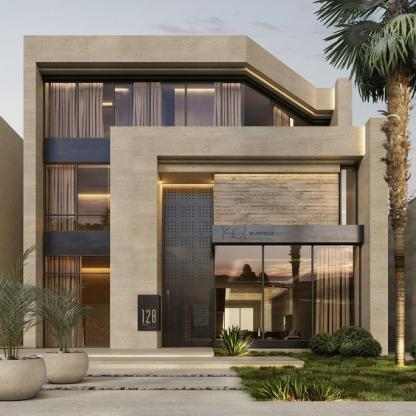Building Outline: (22, 34, 389, 357)
Deco: (138, 294, 160, 331)
Door: (163, 248, 213, 347)
Facade: (22, 35, 390, 358)
Floor Slab: (44, 233, 365, 244), (44, 140, 367, 148)
Glass Wall: (44, 83, 330, 138), (215, 246, 359, 340), (46, 255, 109, 347), (46, 164, 109, 231)
Shop: (222, 226, 291, 241)
Window: (342, 168, 357, 224)
